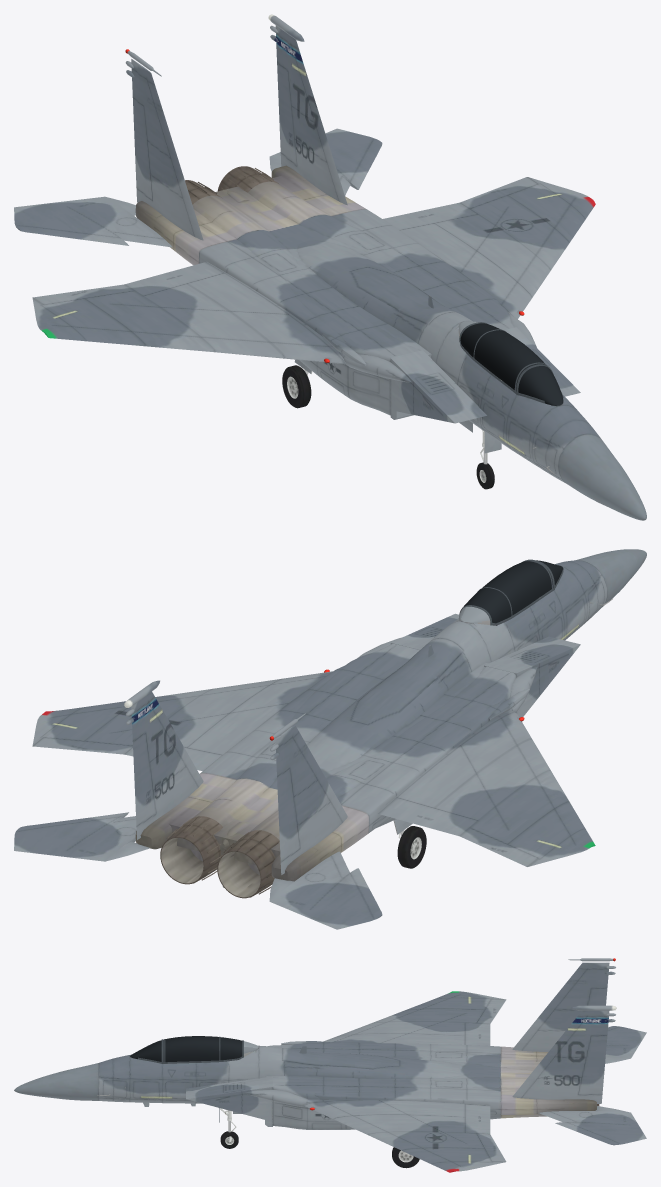
3 views of the same model, one above another, from view 1: azimuth 30°, elevation 25°; view 2: azimuth 150°, elevation 25°; view 3: azimuth 270°, elevation 25° (orthographic). The views are drawn at different scales.
Parts seen in each view (by area): view 1: airframe, stab_m, nozzles, spin_r_m; view 2: airframe, stab_m, nozzles, spin_r_m; view 3: airframe, stab_m, spin_l_m, steer_nose_m.
Part boxes in pixels (box(x1,y1,x2,y2)): airframe: box(32, 14, 646, 520); stab_m: box(14, 128, 382, 247); nozzles: box(185, 166, 278, 204); spin_r_m: box(282, 365, 311, 408); airframe: box(32, 549, 646, 887); stab_m: box(14, 812, 382, 929); nozzles: box(160, 816, 279, 898); spin_r_m: box(397, 826, 426, 868); airframe: box(14, 958, 616, 1172); stab_m: box(538, 1026, 646, 1145); spin_l_m: box(392, 1147, 419, 1168); steer_nose_m: box(220, 1121, 238, 1148).
Size of the model in its own units: 13.05 by 5.63 by 19.43.
Materials: 4 (1 with a texture image).
